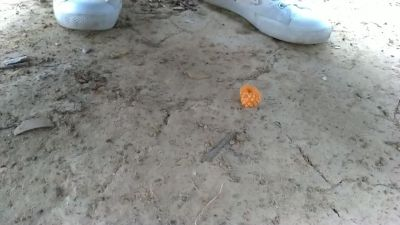eggs: (238, 80, 262, 110)
